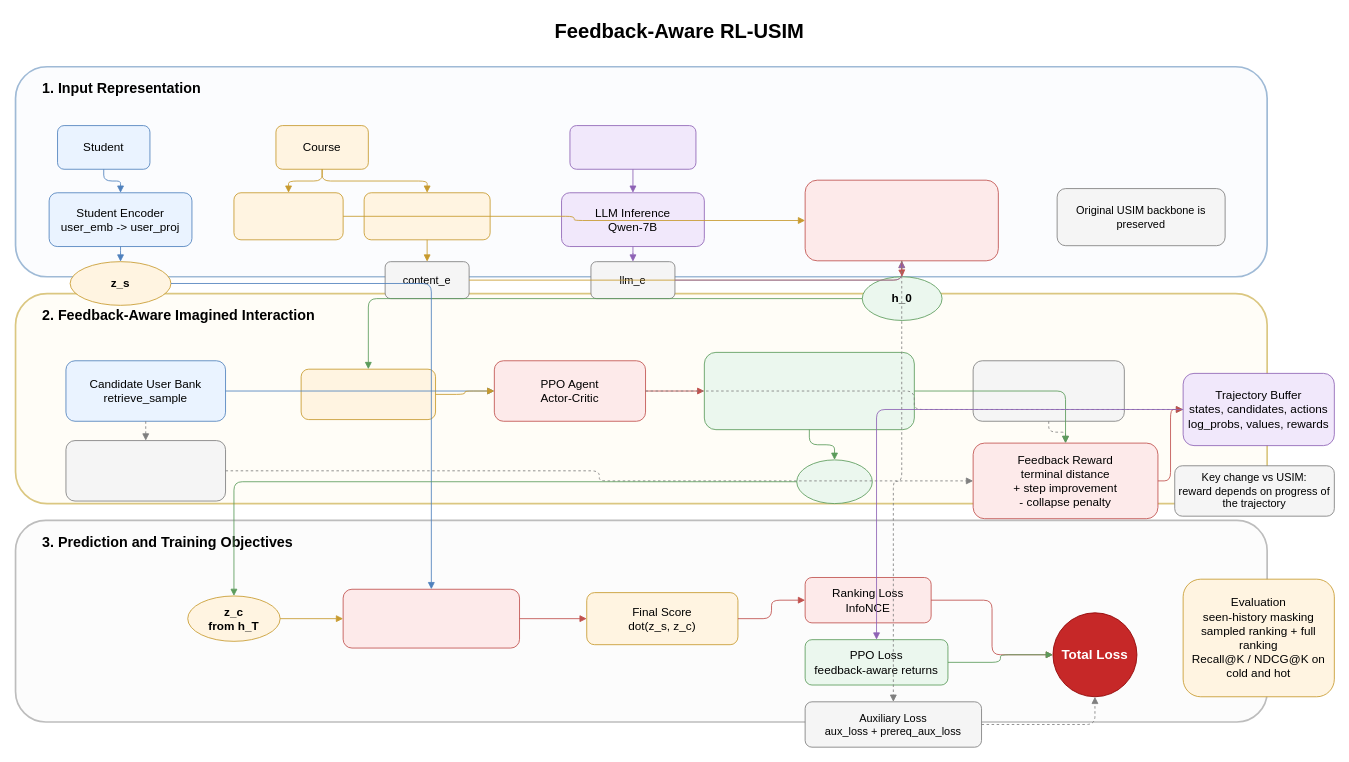
Some shapes in this 1349 by 762 pixel diagram are drawn without their labels. Each missing label, with the box of its shape:
Candidate Stats dup_rate topm_coverage: (65, 440, 226, 501)
Content Encoder MLP + LN: (363, 192, 490, 240)
h_T: (796, 459, 872, 504)
ID Embedding: (233, 192, 343, 240)
PAM Fusion concat(ID, content_e, llm_e) + gate network: (804, 179, 998, 261)
Prediction Head MLP or similarity scoring: (342, 588, 520, 648)
Rollout Update selected user -> score h_t+1 = h_t + eta * grad(score): (704, 352, 914, 430)
State and Time concat(h_t, t): (300, 368, 436, 420)
target_emb cold: z_i_base hot: item ID emb: (972, 360, 1124, 421)
User history + course text: (569, 125, 696, 169)
